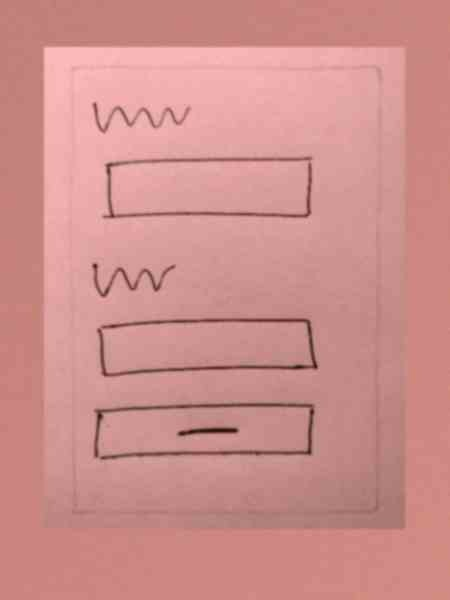button: (87, 399, 321, 466)
text: (87, 94, 194, 139), (85, 254, 181, 300)
text_input: (92, 150, 320, 229), (87, 315, 324, 383)
